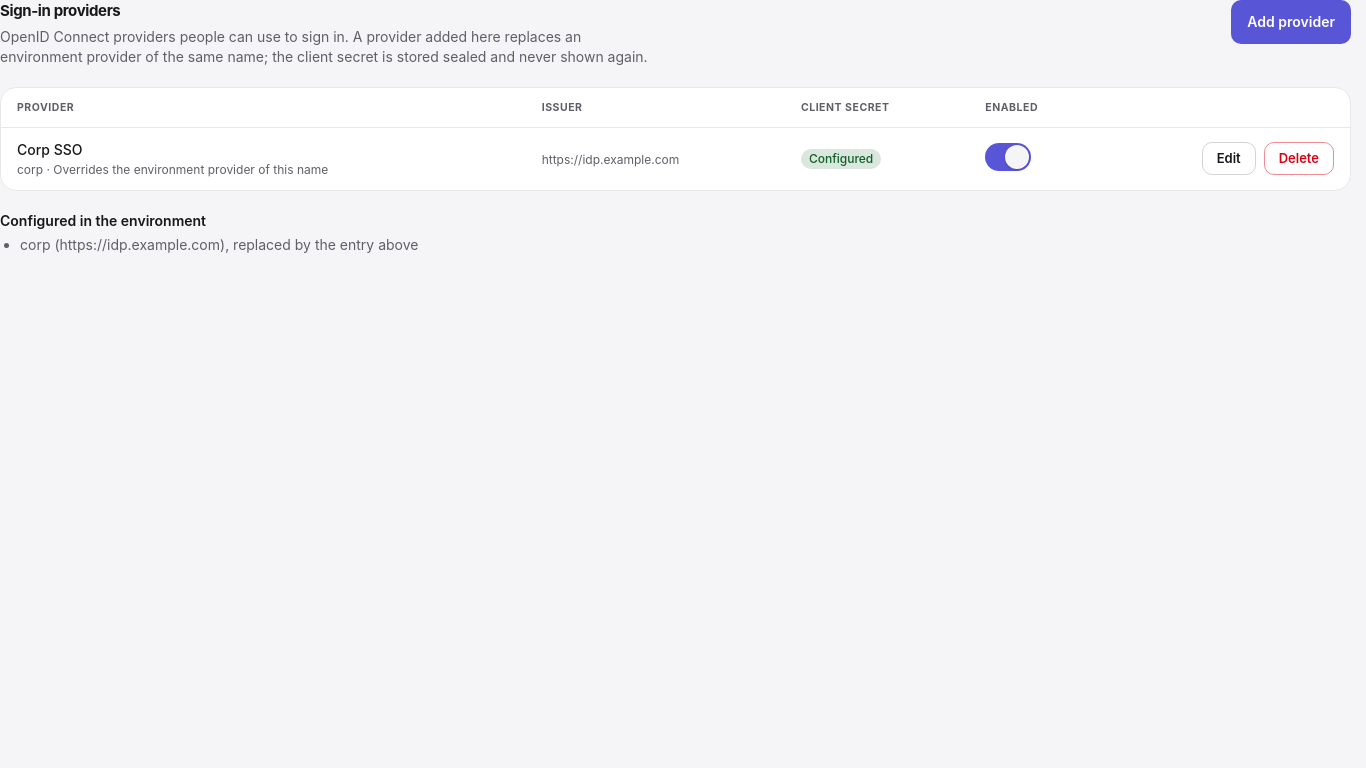
Test: OIDCProvidersPanel › delete surfaces the 422 'disable or edit instead' message
Expected: the text "Corp SSO" is shown, [17, 140, 82, 158]
Click the button with aria-label "Delete provider corp" at (1299, 158), box [1264, 142, 1334, 175]
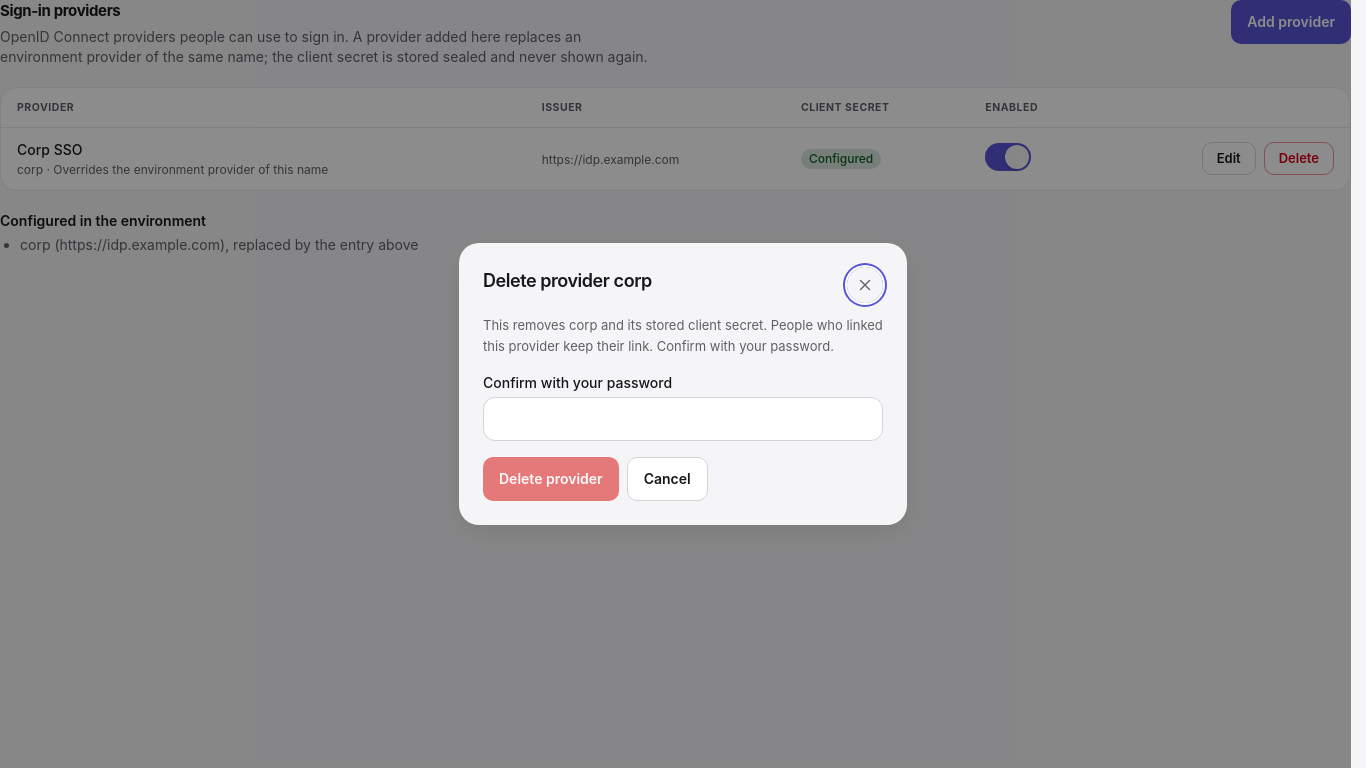
Type "pw" into the password field labelled "Confirm with your password" at (683, 419), box [483, 397, 883, 441]
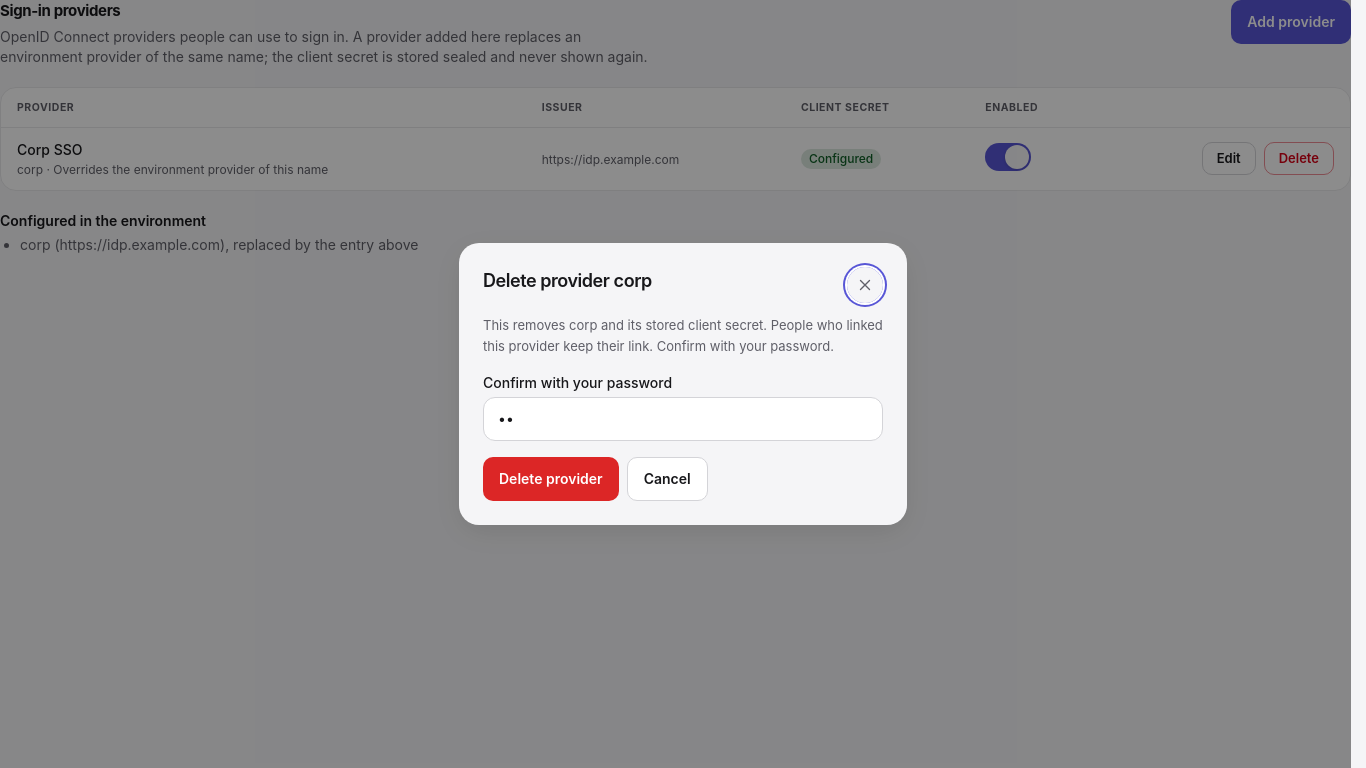
Click the button "Delete provider" at (551, 479), box [483, 457, 619, 501]
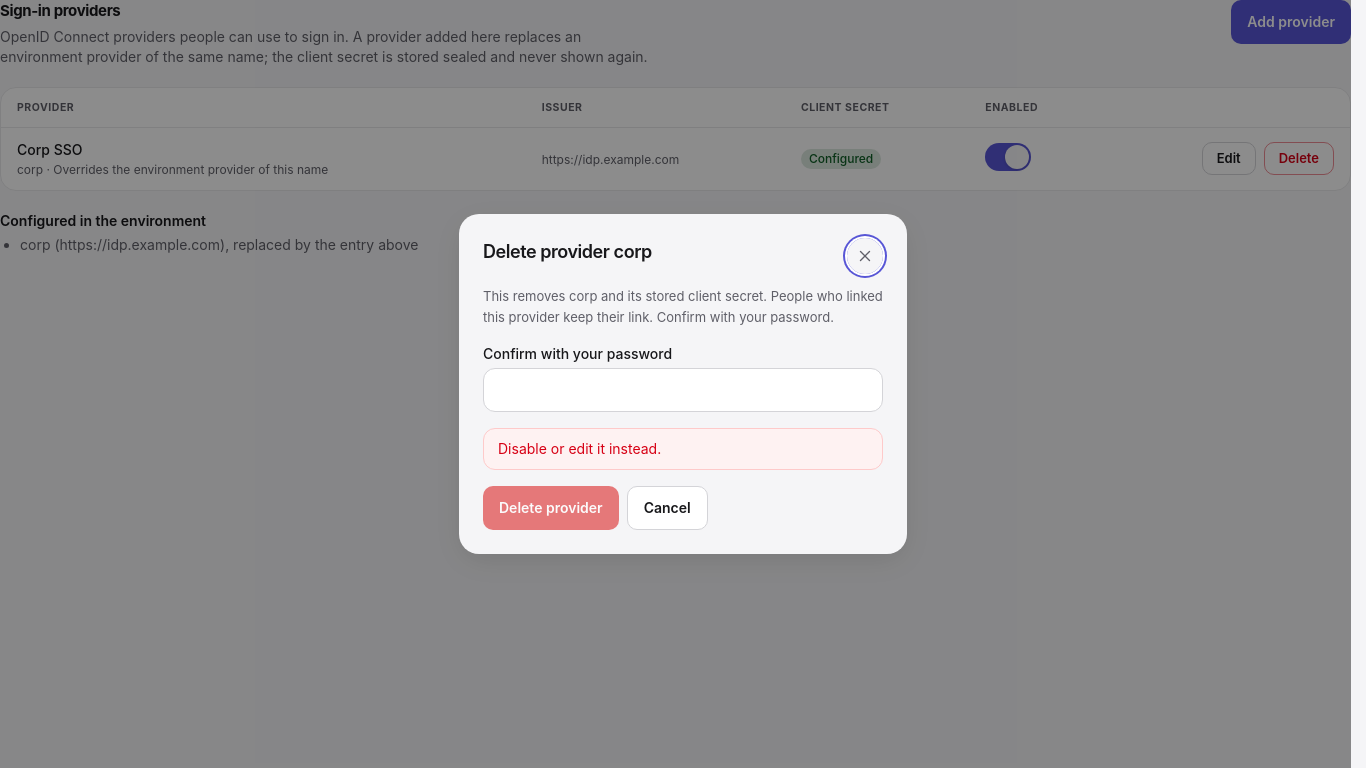
Result: the text "Disable or edit it instead." is shown at [483, 428, 883, 470]
